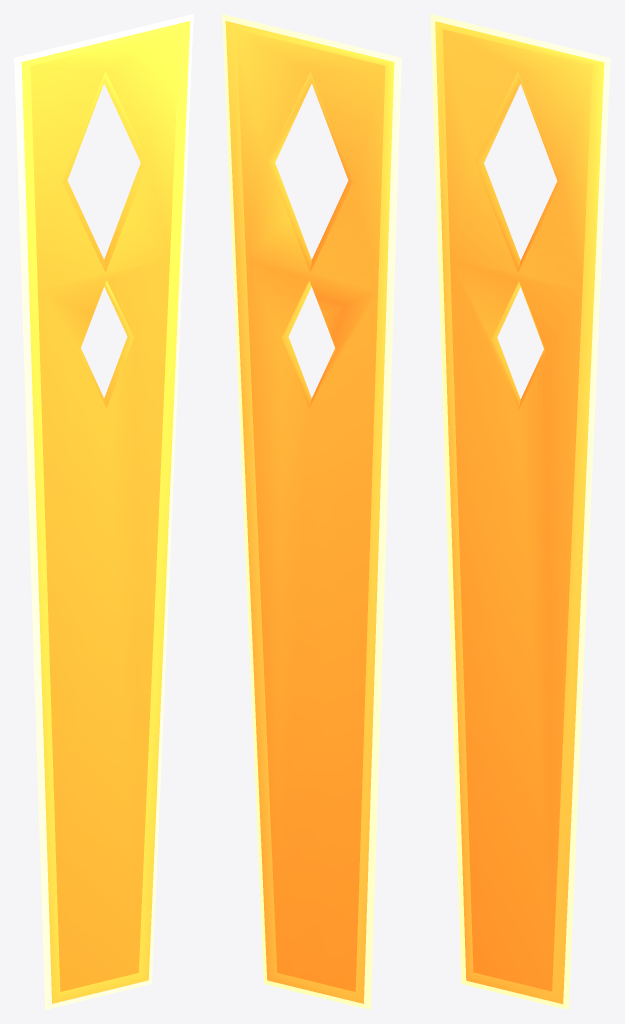
Rendered from gold_blade (20).glb.
3 renders of one model, left to right at view 1: azimuth 30°, elevation 25°; view 2: azimuth 150°, elevation 25°; view 3: azimuth 330°, elevation 25°, orthographic.
Parts seen in each view (by area): view 1: gold_blade_steel.041; view 2: gold_blade_steel.041; view 3: gold_blade_steel.041.
Boxes of the visible parts, x1,y1,x2,y2 form: gold_blade_steel.041: [14, 14, 193, 1009]; gold_blade_steel.041: [222, 14, 401, 1009]; gold_blade_steel.041: [430, 14, 610, 1009].
Size of the model in its own units: 2.19 by 11.21 by 0.0882.
1 material, 1 textured.
